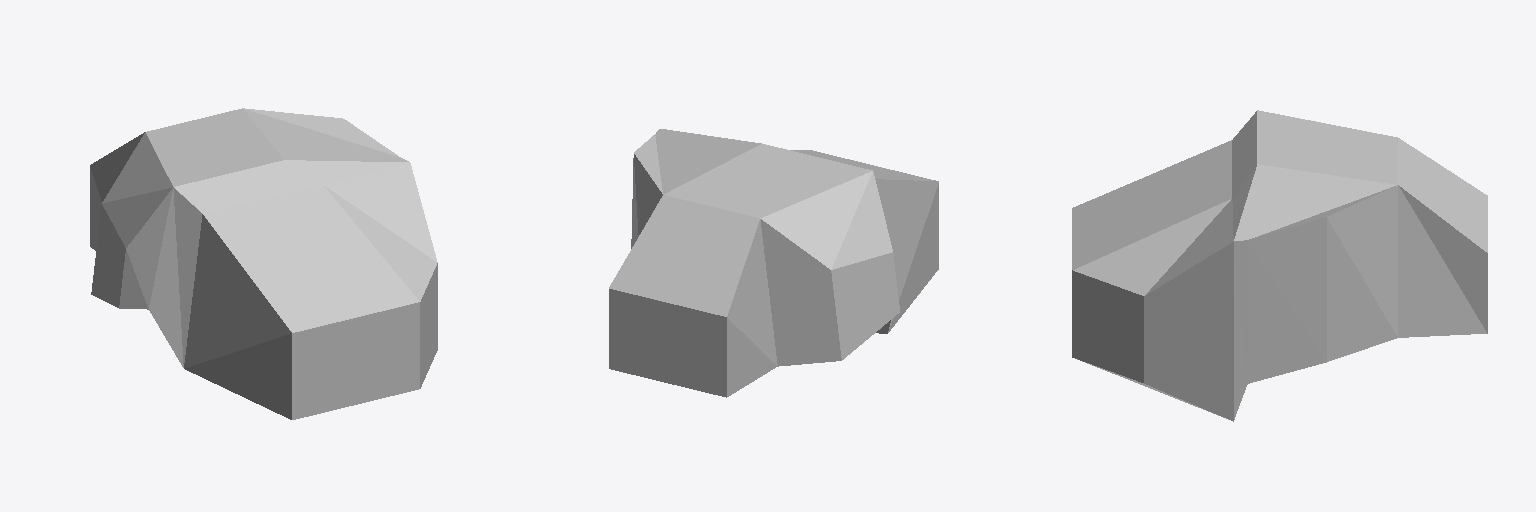
File: World1Base14.obj
3 renders of one model, left to right at view 1: azimuth 30°, elevation 25°; view 2: azimuth 150°, elevation 25°; view 3: azimuth 270°, elevation 25°, orthographic.
Visible parts, largest first — view 1: World1Base14; view 2: World1Base14; view 3: World1Base14.
Boxes of the visible parts, x1=… form: World1Base14: x1=90, y1=108, x2=437, y2=419; World1Base14: x1=609, y1=129, x2=938, y2=397; World1Base14: x1=1072, y1=110, x2=1487, y2=421.
Bounding box in the file's own units: 13.81 × 9.8 × 18.43.